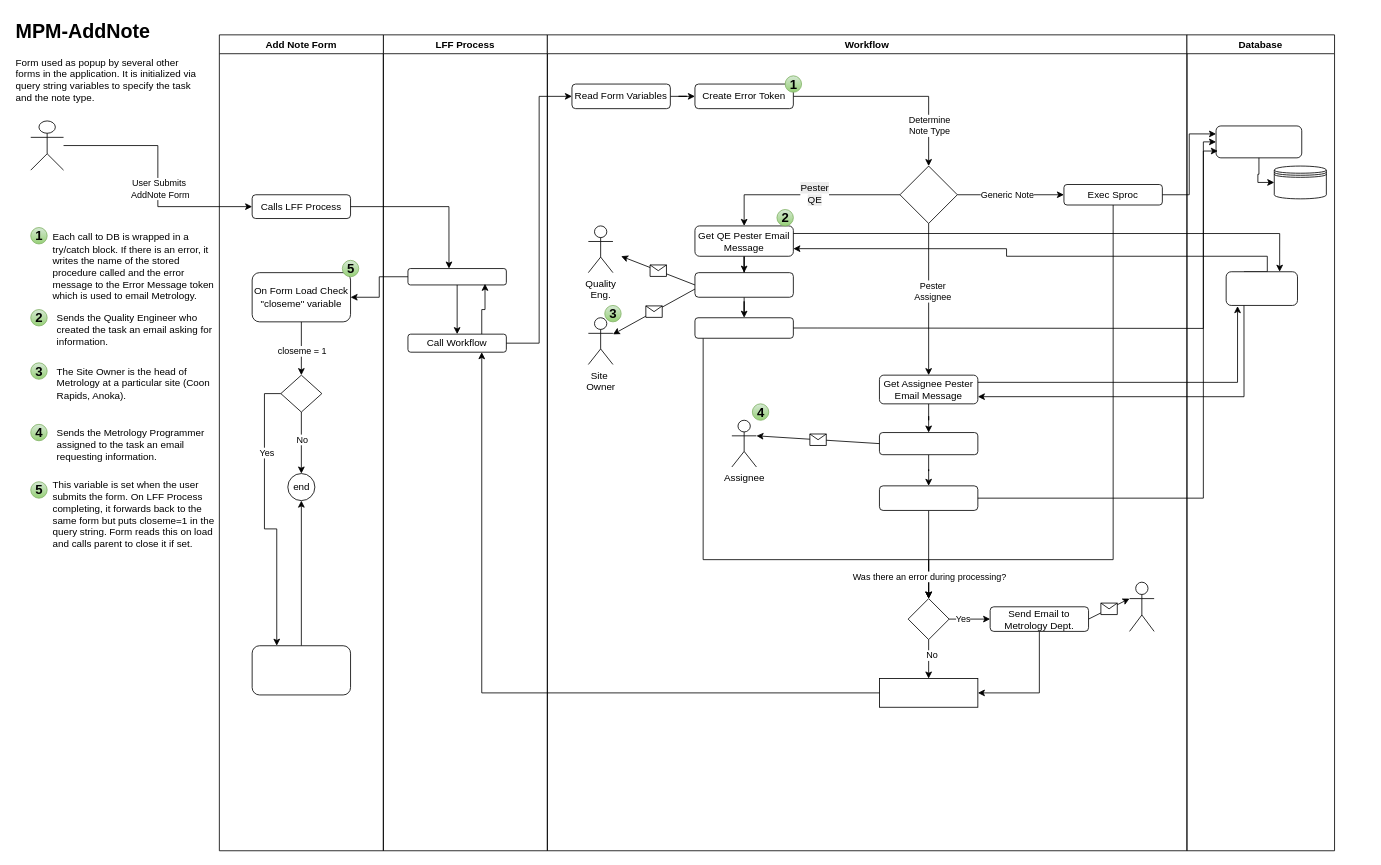
This 1381x865 diagram has some shape labels left out. The shapes that lost their labels are listed below. From the top down, each one's centre as x and y in pixels, then its label:
At (47,145): "User".
At (1258,141): "Add Note Sproc".
At (928,194): "Note Type".
At (1299,182): "Task Notes Table".
At (456,276): "Start LFF Process".
At (743,284): "Sends EMail to QE Copies Site Owner".
At (1261,288): "Get Email Msg Sproc".
At (743,327): "Saves email to to db".
At (928,443): "Sends Email to Assignee".
At (928,497): "Saves email to db".
At (1141,606): "Metrology Dept".
At (301,670): "Send Msg to Parent form to close Add Note Form".
At (928,692): "Return To LFF Process".
